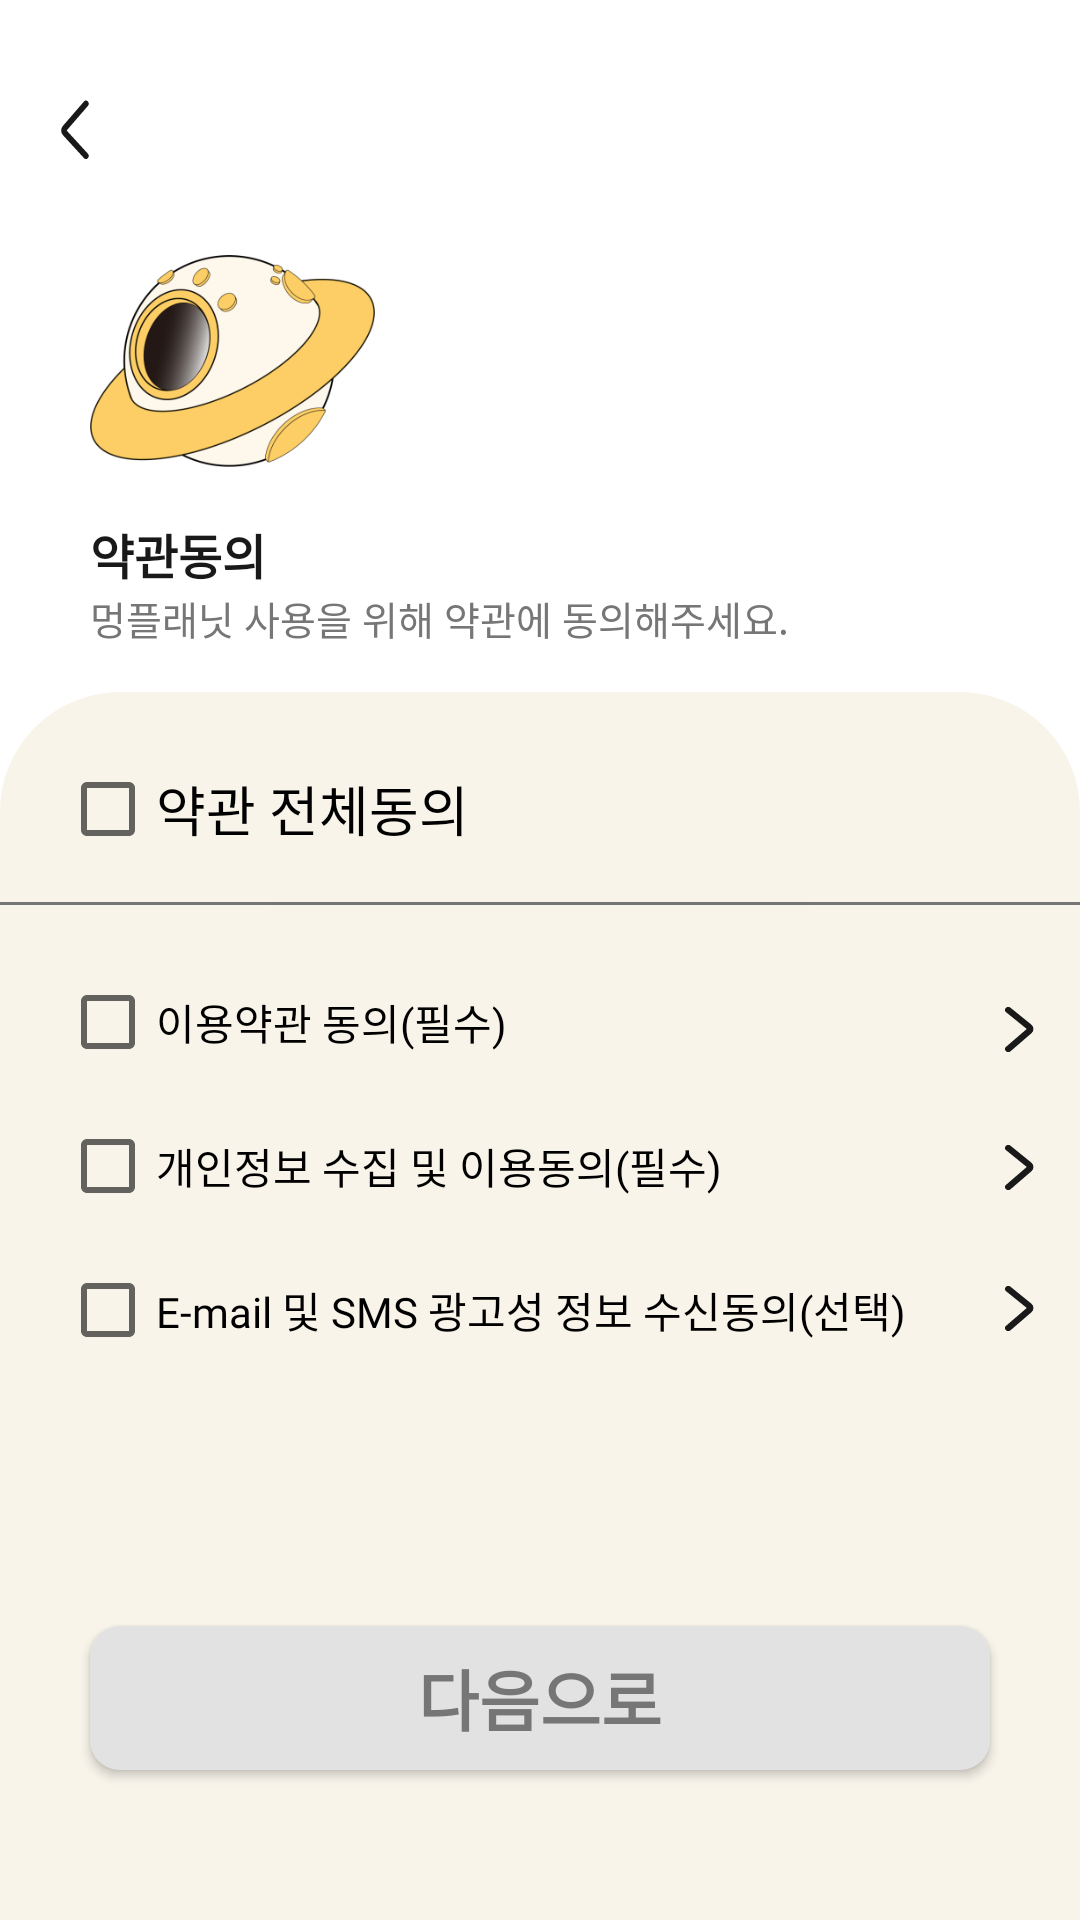

Screen size 1080 x 1920. Icon name, then its center in pixels as point (x, y):
planet: point (232, 361)
